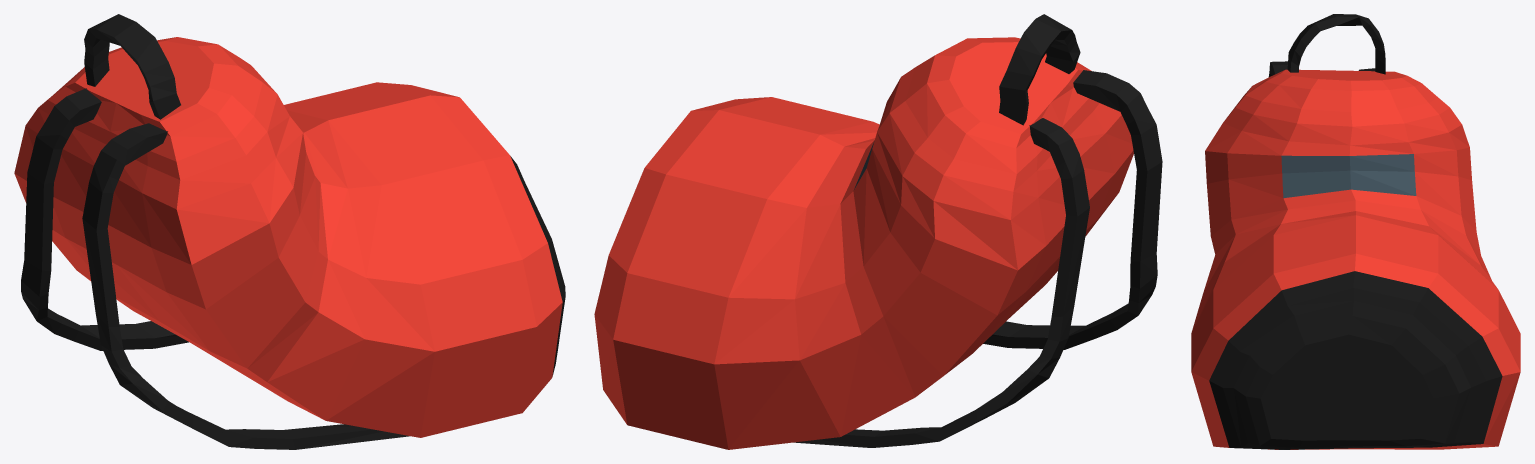
File: Backpack by Emmett “TawpShelf” Baber - ems9KHrB_4x.glb
3 views of the same model, side by side, from view 1: azimuth 30°, elevation 25°; view 2: azimuth 150°, elevation 25°; view 3: azimuth 270°, elevation 25° (orthographic). The views are drawn at different scales.
Parts seen in each view (by area): view 1: group1809739776, group1521911262, group1800798373, group267658192; view 2: group1809739776, group1800798373, group1521911262, group267658192; view 3: group1809739776, group267658192.
Part boxes in pixels (bbox=[...]): group1809739776: bbox=[14, 37, 565, 437]; group1521911262: bbox=[82, 123, 409, 449]; group1800798373: bbox=[21, 88, 188, 350]; group267658192: bbox=[84, 14, 180, 119]; group1809739776: bbox=[594, 37, 1133, 449]; group1800798373: bbox=[794, 118, 1089, 447]; group1521911262: bbox=[983, 70, 1162, 349]; group267658192: bbox=[999, 14, 1080, 125]; group1809739776: bbox=[1191, 69, 1520, 449]; group267658192: bbox=[1287, 14, 1385, 74].
Bounding box in the file's own units: 0.3631 × 0.3117 × 0.29.
